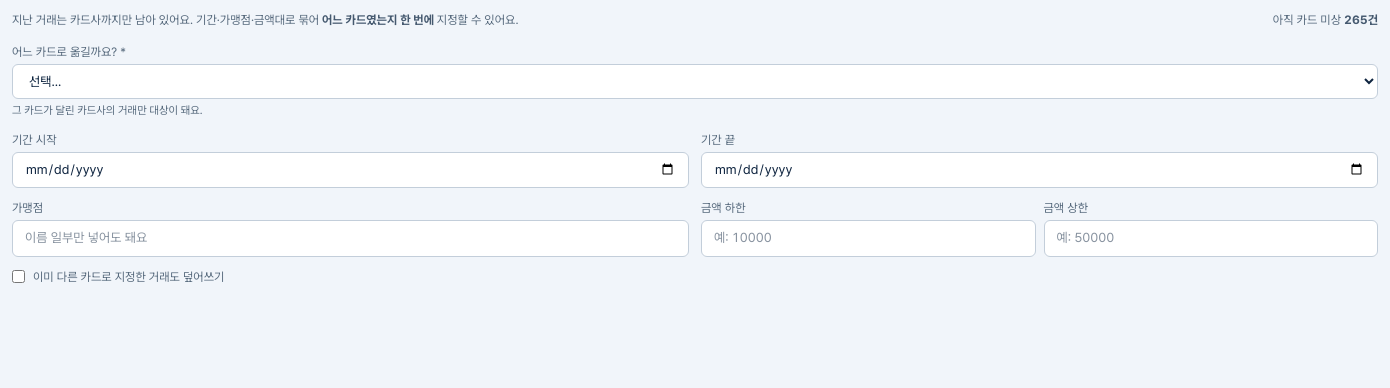
Test: C. 프리뷰 — 실행 전에 건수가 보인다 › C-4. 걸리는 거래가 없으면 그렇게 말한다
The image size is (1390, 388).
Select "하나 A · 하나카드" in the dropdown labelled "어느 카드로 옮길까요? *" at (695, 82), box [12,64,1378,99]
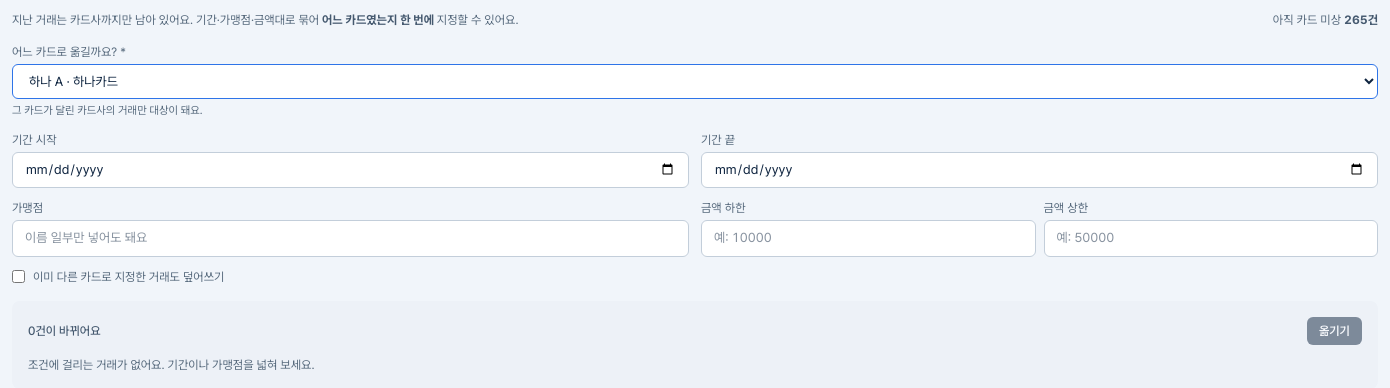
Expected: the text "조건에 걸리는 거래가 없어요. 기간이나 가맹점을 넓혀 보세요." is shown, [28,358,314,372]
